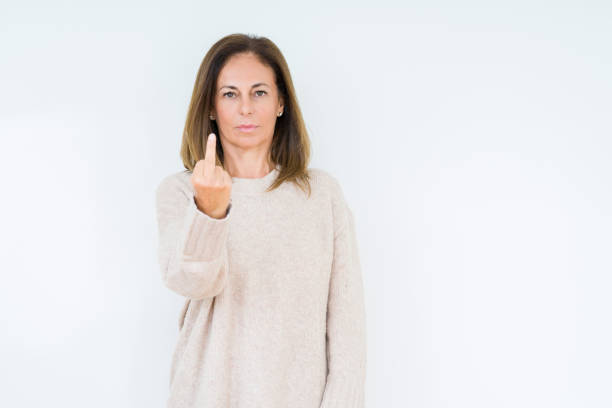insulting_gesture: (189, 130, 234, 214)
